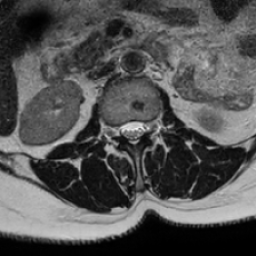CCS_normal: (129, 115, 137, 151)
LFS_normal: (146, 111, 155, 140)
LLS_normal: (137, 116, 146, 144)
RFS_normal: (111, 117, 120, 144)
RLS_normal: (120, 116, 129, 146)
